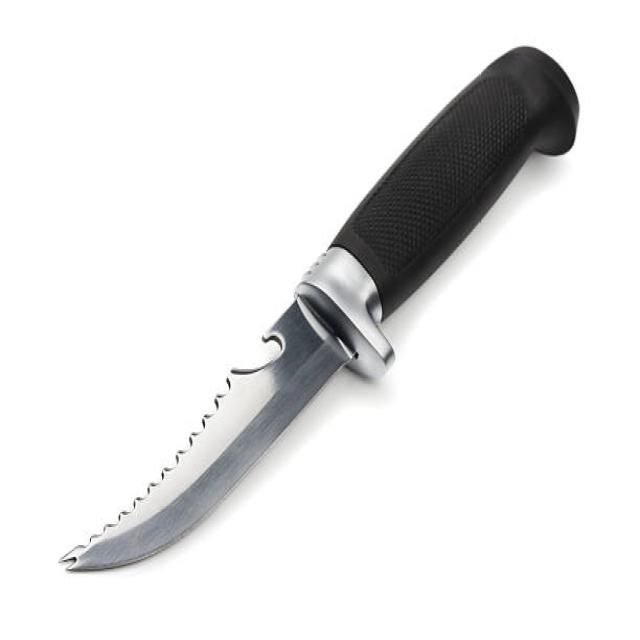knife: (54, 32, 586, 611)
